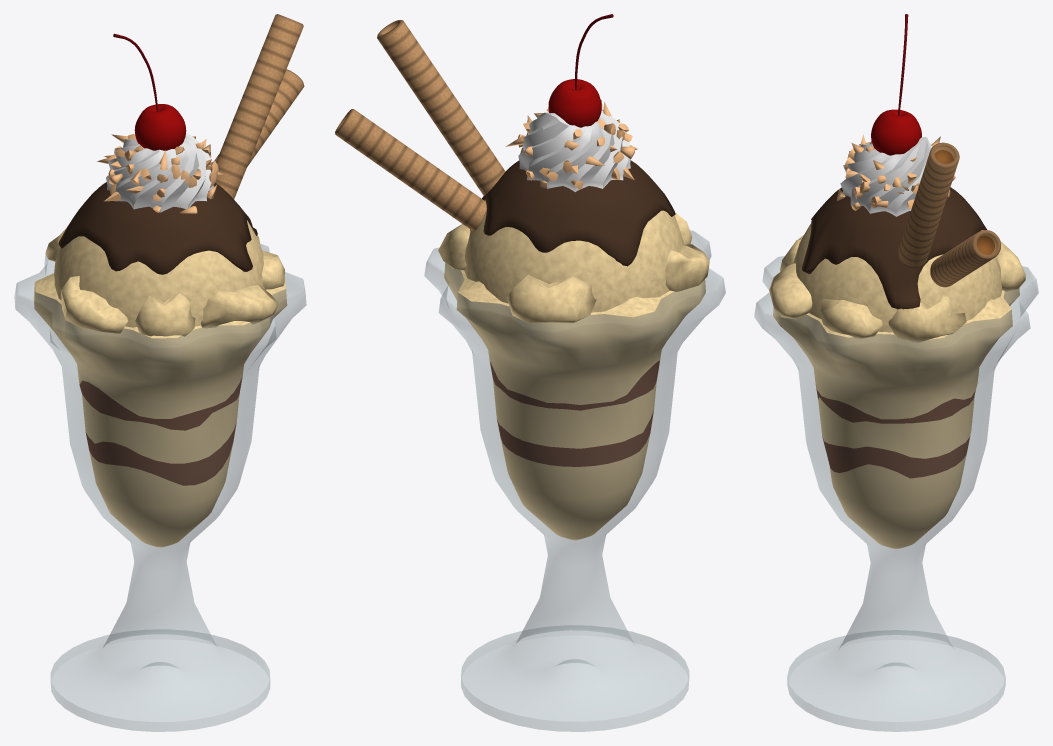
Rendered from ice_cream_sundae.glb.
3 renders of one model, left to right at view 1: azimuth 30°, elevation 25°; view 2: azimuth 150°, elevation 25°; view 3: azimuth 270°, elevation 25°, orthographic. The views are drawn at different scales.
Visible parts, largest first — view 1: IceCream_Glass, IceCream_Main, IceCream_Chocolate_Top, IceCream_Bar000, IceCream_Top_Cream, IceCream_Nuts, IceCream_Cherry, IceCream_Bar001; view 2: IceCream_Glass, IceCream_Main, IceCream_Chocolate_Top, IceCream_Bar000, IceCream_Top_Cream, IceCream_Bar001, IceCream_Cherry, IceCream_Nuts; view 3: IceCream_Glass, IceCream_Main, IceCream_Chocolate_Top, IceCream_Bar000, IceCream_Top_Cream, IceCream_Bar001, IceCream_Cherry, IceCream_Nuts.
Boxes of the visible parts, x1=… form: IceCream_Glass: x1=14, y1=243, x2=306, y2=731; IceCream_Main: x1=45, y1=220, x2=284, y2=336; IceCream_Chocolate_Top: x1=58, y1=182, x2=257, y2=274; IceCream_Bar000: x1=215, y1=14, x2=303, y2=198; IceCream_Top_Cream: x1=106, y1=132, x2=213, y2=212; IceCream_Nuts: x1=97, y1=134, x2=223, y2=213; IceCream_Cherry: x1=113, y1=33, x2=186, y2=150; IceCream_Bar001: x1=214, y1=69, x2=304, y2=166; IceCream_Glass: x1=424, y1=230, x2=725, y2=731; IceCream_Main: x1=438, y1=200, x2=709, y2=323; IceCream_Chocolate_Top: x1=482, y1=160, x2=675, y2=266; IceCream_Bar000: x1=377, y1=20, x2=505, y2=195; IceCream_Top_Cream: x1=518, y1=111, x2=630, y2=191; IceCream_Bar001: x1=335, y1=109, x2=486, y2=230; IceCream_Cherry: x1=548, y1=14, x2=613, y2=127; IceCream_Nuts: x1=505, y1=100, x2=637, y2=189; IceCream_Glass: x1=754, y1=256, x2=1038, y2=731; IceCream_Main: x1=769, y1=223, x2=1025, y2=342; IceCream_Chocolate_Top: x1=802, y1=187, x2=986, y2=309; IceCream_Bar000: x1=898, y1=142, x2=959, y2=268; IceCream_Top_Cream: x1=840, y1=137, x2=932, y2=216; IceCream_Bar001: x1=930, y1=230, x2=1000, y2=287; IceCream_Cherry: x1=871, y1=14, x2=921, y2=155; IceCream_Nuts: x1=837, y1=134, x2=955, y2=210.
Size of the model in its own units: 19.5 by 39.66 by 15.69.
Materials: 7 (5 with a texture image).
